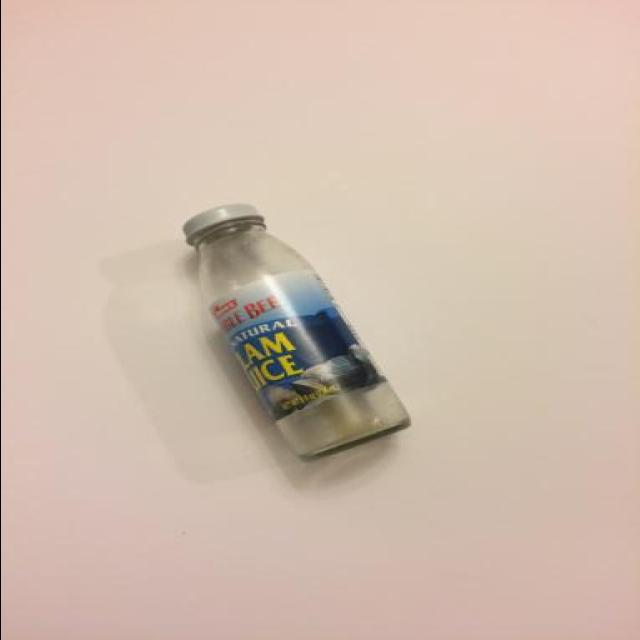Glass Bottle: (174, 203, 412, 467)
